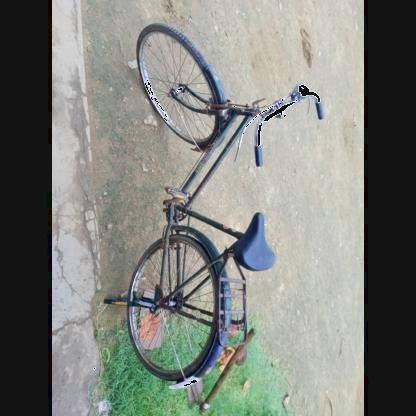Bicycle: (92, 2, 306, 414)
